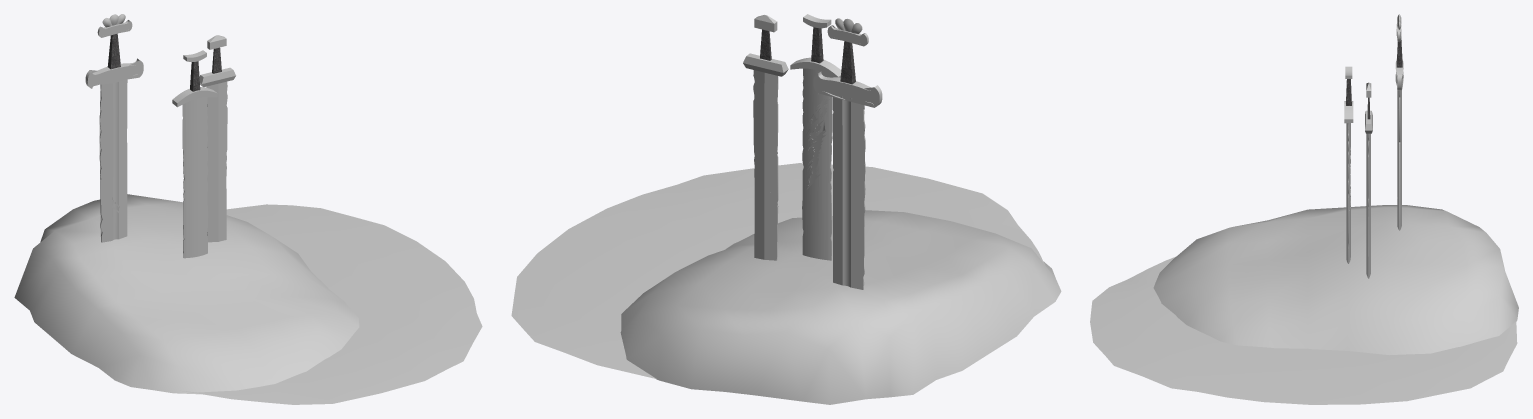
Rendered from Swords in rock.fbx.
3 views of the same model, side by side, from view 1: azimuth 30°, elevation 25°; view 2: azimuth 150°, elevation 25°; view 3: azimuth 270°, elevation 25° (orthographic). The views are drawn at different scales.
Parts seen in each view (by area): view 1: Plane003, Plane004, Line009, Line003, Line004, Line012, Box004, Box005; view 2: Plane003, Plane004, Line009, Line003, Line004, Line012, Box004, Box005, Box007; view 3: Plane003, Plane004, Line004, Line003, Line009.
Part boxes in pixels (box(x1,y1,x2,y2)): Plane003: box(14, 194, 359, 394); Plane004: box(180, 204, 482, 404); Line009: box(99, 79, 127, 242); Line003: box(182, 97, 208, 258); Line004: box(206, 81, 227, 242); Line012: box(85, 58, 143, 88); Box004: box(199, 35, 235, 87); Box005: box(172, 87, 217, 107); Plane003: box(620, 210, 1061, 404); Plane004: box(511, 163, 1044, 378); Line009: box(832, 96, 865, 289); Line003: box(802, 68, 832, 260); Line004: box(753, 70, 778, 260); Line012: box(813, 71, 882, 107); Box004: box(743, 14, 788, 76); Box005: box(790, 57, 841, 77); Box007: box(840, 41, 855, 84); Plane003: box(1153, 205, 1518, 354); Plane004: box(1090, 256, 1517, 404); Line004: box(1366, 133, 1370, 278); Line003: box(1346, 123, 1350, 263); Line009: box(1397, 90, 1401, 230).
Bounding box in the file's own units: 224 × 160 × 239.
